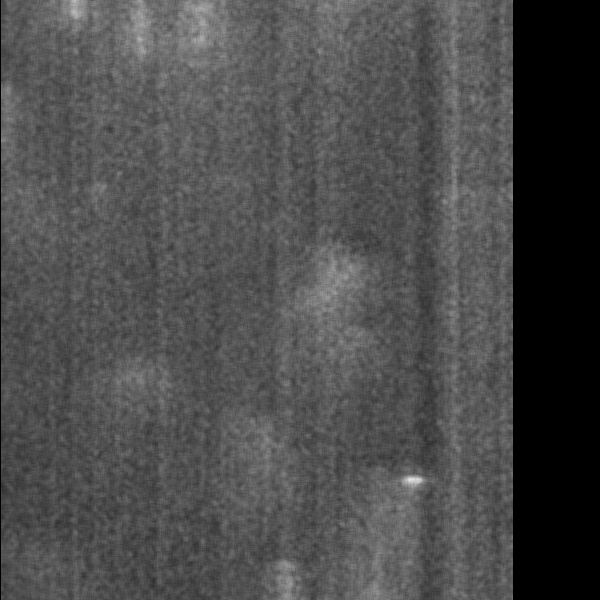spark: (268, 242, 365, 353), (72, 352, 178, 422), (394, 468, 436, 505), (270, 558, 307, 600)
